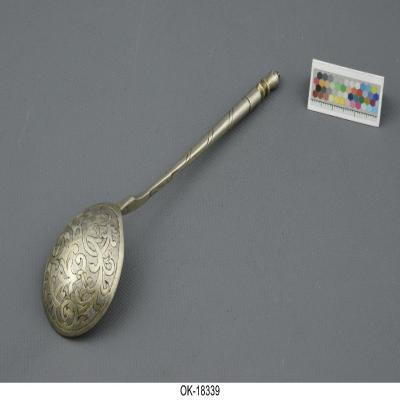dpi: (42, 70, 280, 339)
